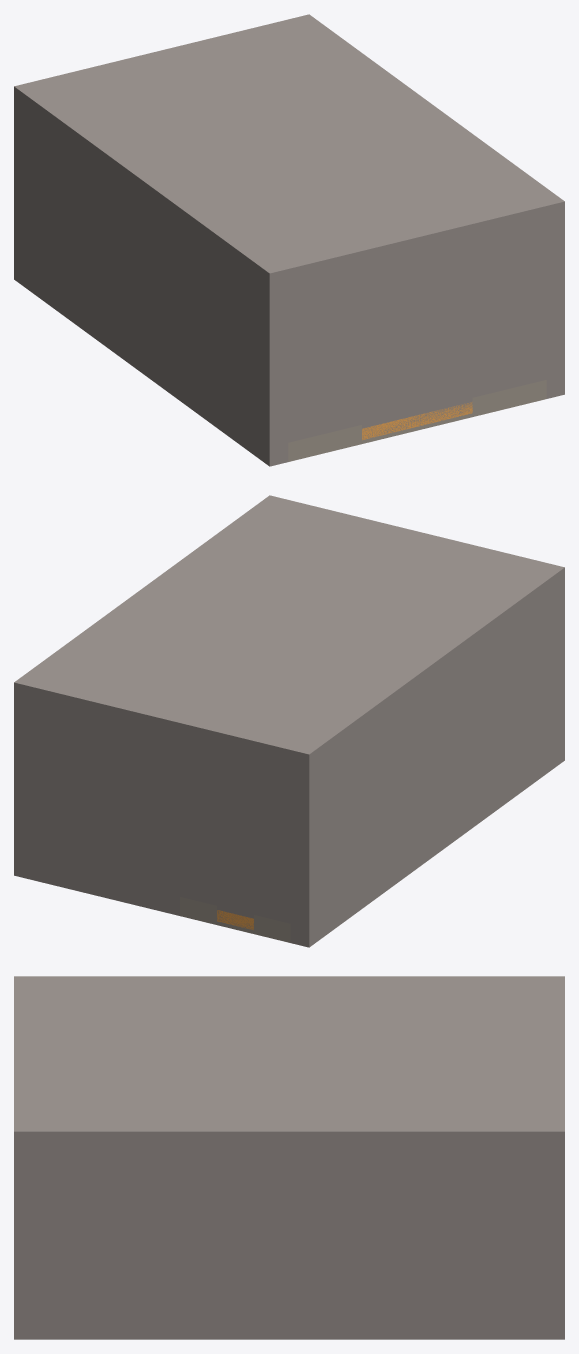
File: river-narrows-mirror.glb
3 views of the same model, one above another, from view 1: azimuth 30°, elevation 25°; view 2: azimuth 150°, elevation 25°; view 3: azimuth 270°, elevation 25° (orthographic). The views are drawn at different scales.
Visible parts, largest first — view 1: rock_9, rock_1, plug_river_south, rock_8, rock_6, plug_river_south.001, cave-floor_5, cave-floor_6, cave-floor_7, cave-floor_1; view 2: rock_9, rock_1, rock_2, plug_stream_north, rock_7, cave-floor_1, cave-floor_2; view 3: rock_9, rock_6, rock_5, rock_3, rock_4, rock_2.
Part boxes in pixels (bbox=[...]): rock_9: bbox=[14, 14, 564, 292]; rock_1: bbox=[14, 106, 288, 466]; plug_river_south: bbox=[288, 244, 546, 442]; rock_8: bbox=[288, 225, 546, 307]; rock_6: bbox=[546, 221, 564, 398]; plug_river_south.001: bbox=[362, 398, 472, 439]; cave-floor_5: bbox=[472, 389, 509, 416]; cave-floor_6: bbox=[509, 380, 546, 407]; cave-floor_7: bbox=[325, 425, 361, 452]; cave-floor_1: bbox=[288, 434, 324, 461]; rock_9: bbox=[14, 495, 564, 773]; rock_1: bbox=[290, 587, 564, 947]; rock_2: bbox=[14, 702, 179, 915]; plug_stream_north: bbox=[180, 761, 290, 923]; rock_7: bbox=[180, 742, 290, 788]; cave-floor_1: bbox=[254, 915, 290, 942]; cave-floor_2: bbox=[180, 897, 216, 924]; rock_9: bbox=[14, 976, 564, 1152]; rock_6: bbox=[14, 1152, 404, 1339]; rock_5: bbox=[404, 1152, 450, 1339]; rock_3: bbox=[496, 1152, 541, 1339]; rock_4: bbox=[450, 1152, 495, 1339]; rock_2: bbox=[542, 1152, 564, 1339].
Bounding box in the file's own units: 8 × 5 × 12.
